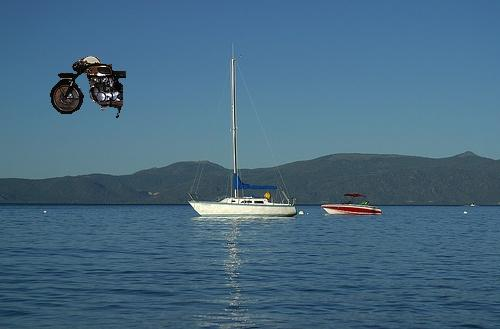tampered: (51, 57, 126, 118)
